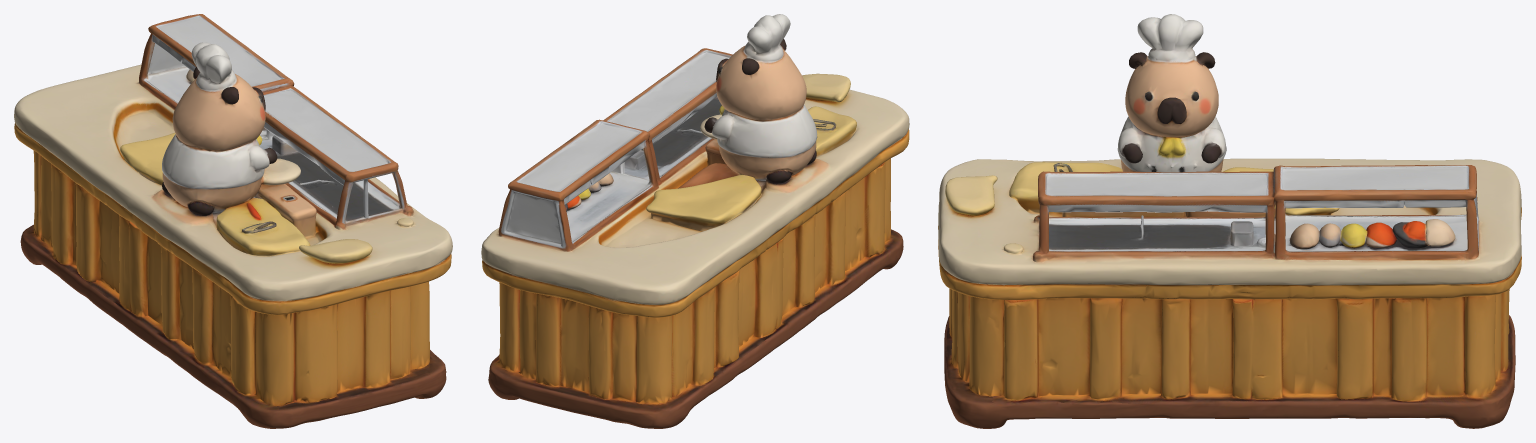
File: sushi-prep-bar-v2.glb
3 renders of one model, left to right at view 1: azimuth 30°, elevation 25°; view 2: azimuth 150°, elevation 25°; view 3: azimuth 270°, elevation 25°, orthographic. The views are drawn at different scales.
Visible parts, largest first — view 1: tripo_node_a393fbb4-f4ea-4dc1-a001-f887aa303016; view 2: tripo_node_a393fbb4-f4ea-4dc1-a001-f887aa303016; view 3: tripo_node_a393fbb4-f4ea-4dc1-a001-f887aa303016.
Part boxes in pixels (x1,y1,x2,y2): tripo_node_a393fbb4-f4ea-4dc1-a001-f887aa303016: (14, 14, 452, 428); tripo_node_a393fbb4-f4ea-4dc1-a001-f887aa303016: (481, 14, 909, 428); tripo_node_a393fbb4-f4ea-4dc1-a001-f887aa303016: (938, 14, 1521, 428).
Bounding box in the file's own units: 0.4523 × 0.6461 × 1.
1 material, 1 textured.
